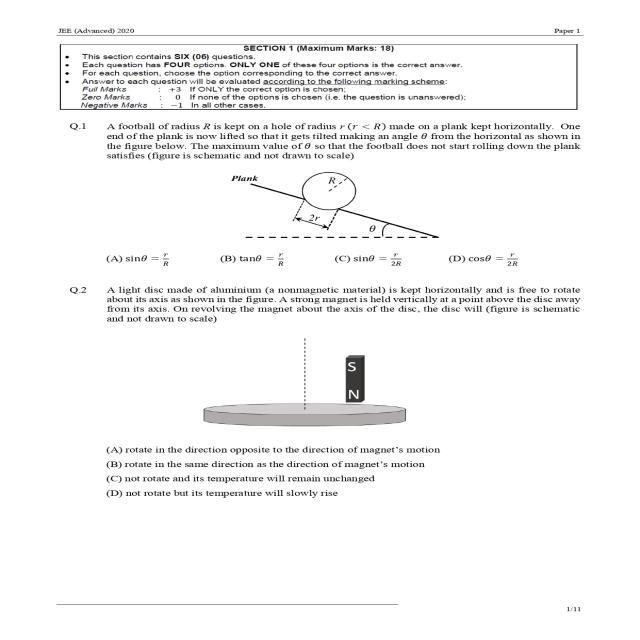Answer_Block: (38, 432, 584, 512)
Instruction: (38, 37, 584, 118)
Question_Answer_Block: (38, 280, 584, 513), (38, 120, 584, 282)
Question_Block: (38, 280, 584, 434), (38, 120, 584, 246), (38, 243, 584, 280)
Question_Paper_Area: (38, 38, 584, 544)
